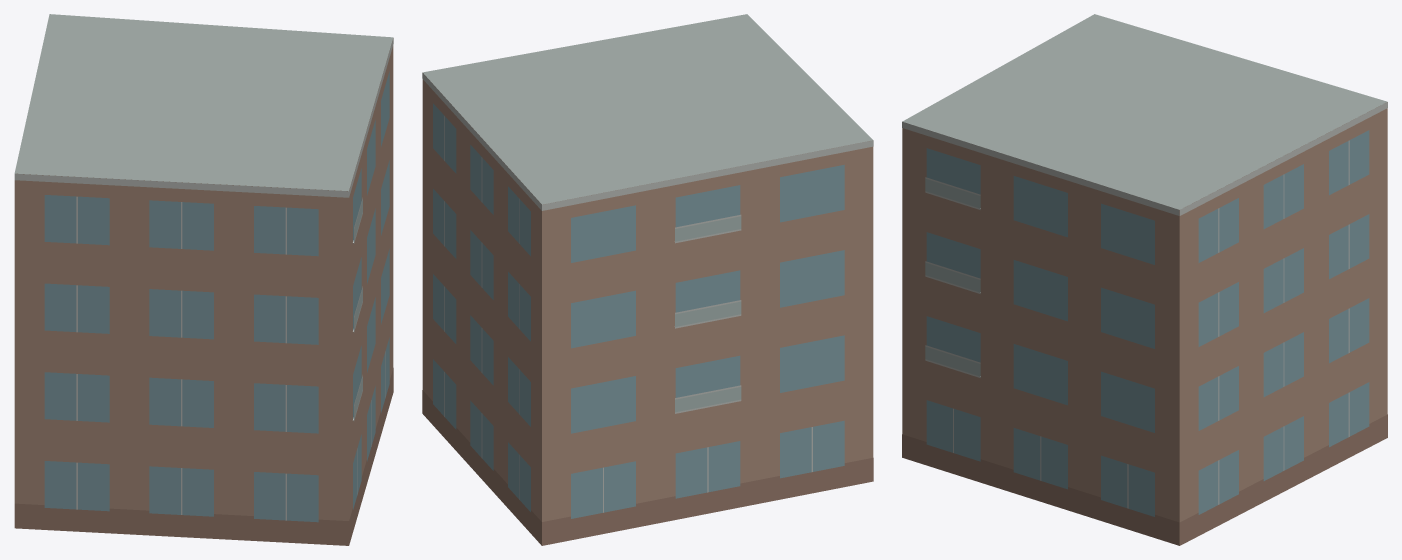
File: survey-upis-32622092.glb
3 renders of one model, left to right at view 1: azimuth 30°, elevation 25°; view 2: azimuth 150°, elevation 25°; view 3: azimuth 270°, elevation 25°, orthographic. The views are drawn at different scales.
Visible parts, largest first — view 1: survey-upis-32622092.tmp; view 2: survey-upis-32622092.tmp; view 3: survey-upis-32622092.tmp.
Boxes of the visible parts, x1,y1,x2,y2 form: survey-upis-32622092.tmp: (14, 14, 393, 545); survey-upis-32622092.tmp: (422, 14, 873, 545); survey-upis-32622092.tmp: (902, 14, 1387, 545).
Size of the model in its own units: 16.39 by 13.1 by 17.17.
